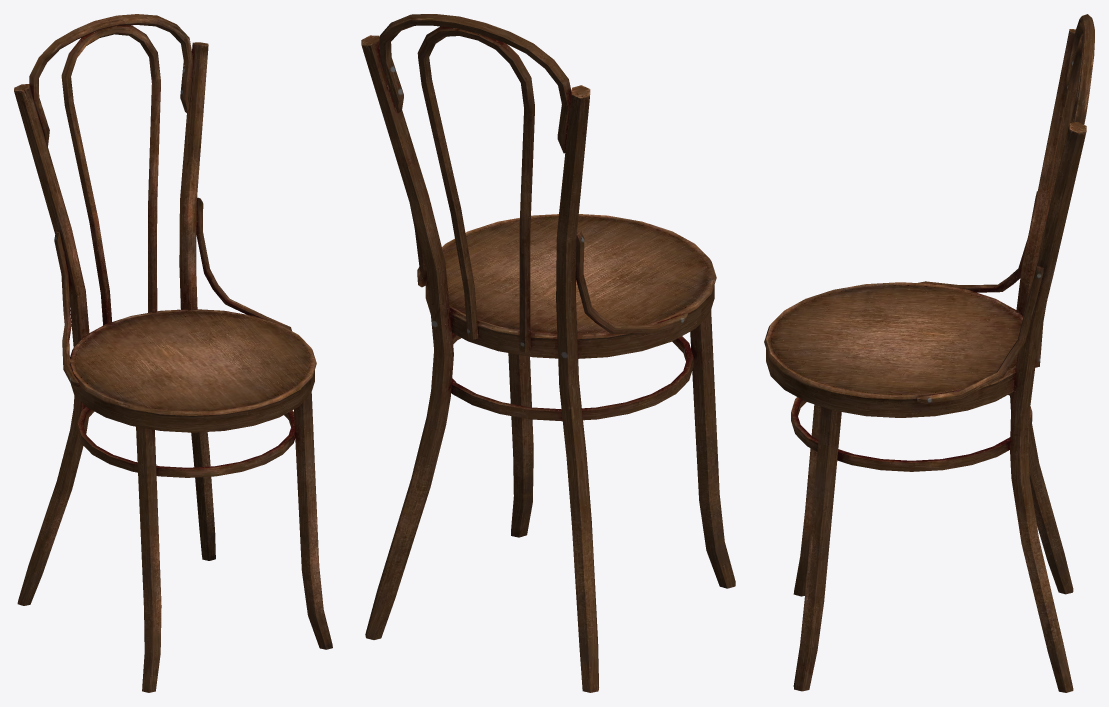
The model's file is dining_chair_old_max3dd.glb.
The picture shows the model from 3 angles, left to right: view 1: azimuth 30°, elevation 25°; view 2: azimuth 150°, elevation 25°; view 3: azimuth 270°, elevation 25°; orthographic projection. The views are drawn at different scales.
Parts seen in each view (by area): view 1: chair_chair_0; view 2: chair_chair_0; view 3: chair_chair_0.
Part boxes in pixels (x1=…): chair_chair_0: x1=14, y1=14, x2=332, y2=692; chair_chair_0: x1=361, y1=14, x2=735, y2=692; chair_chair_0: x1=764, y1=14, x2=1094, y2=692.
Bounding box in the file's own units: 0.2011 × 0.4841 × 0.2386.
1 material, 1 textured.
